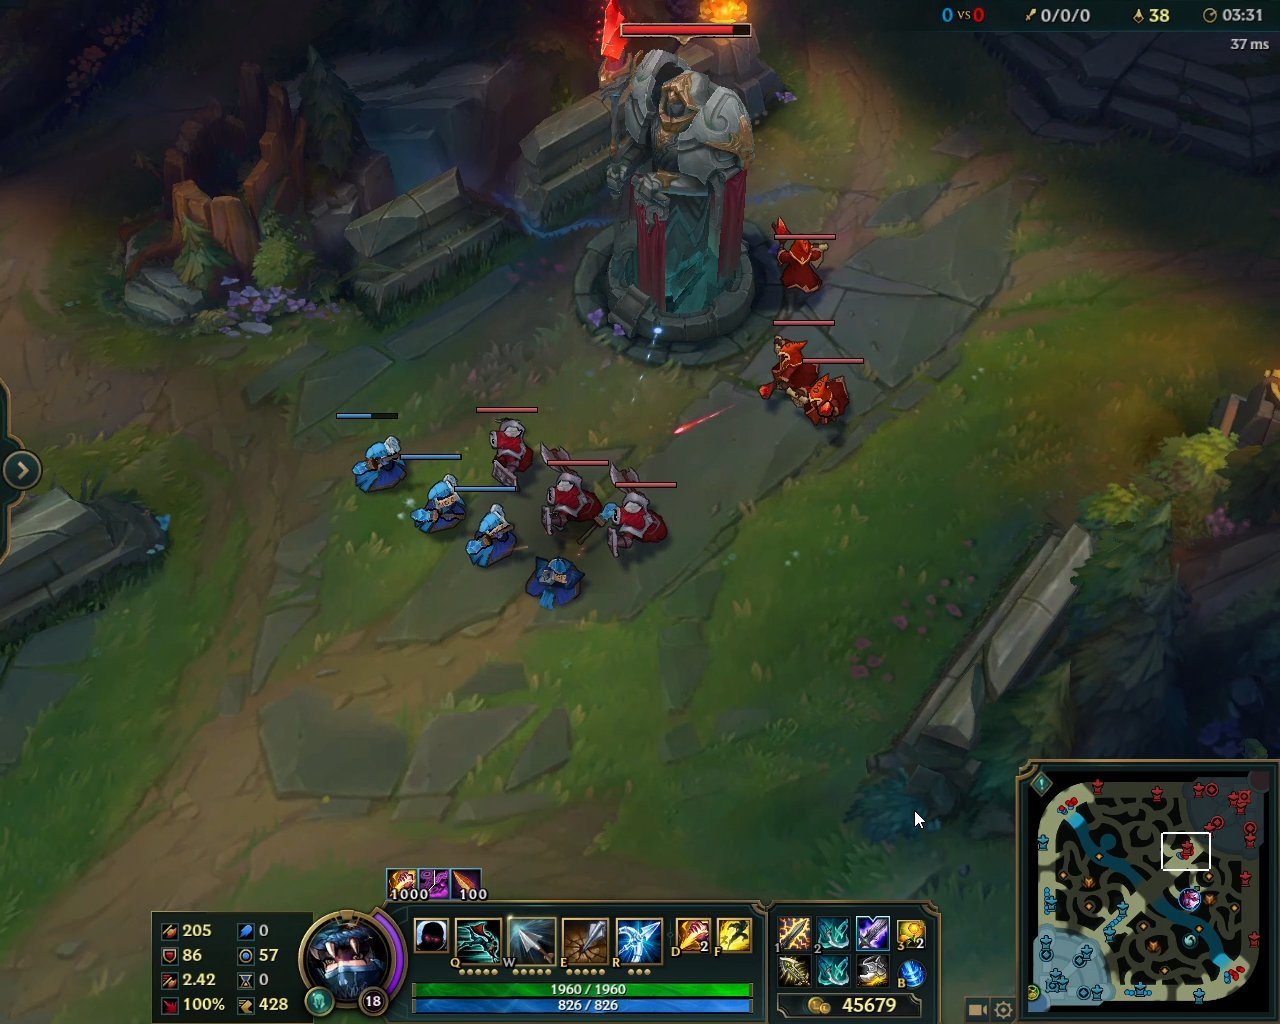EnemyMinion: (534, 443, 619, 540), (601, 465, 681, 565), (757, 319, 835, 400), (471, 405, 541, 494), (788, 355, 866, 430), (768, 213, 841, 294)
Tower: (580, 1, 767, 348)
